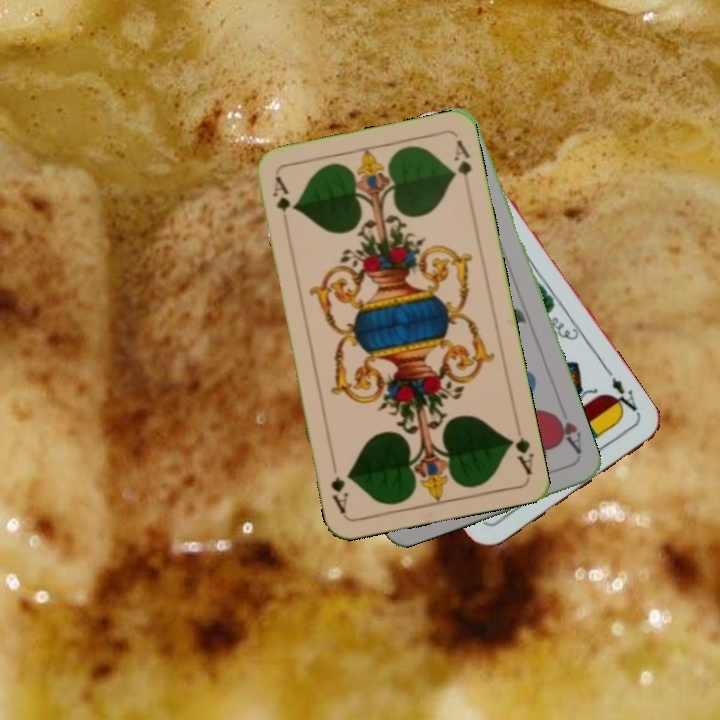EA: (603, 366, 643, 419)
GA: (504, 433, 536, 477), (268, 172, 293, 215)
HA: (548, 408, 585, 457)
